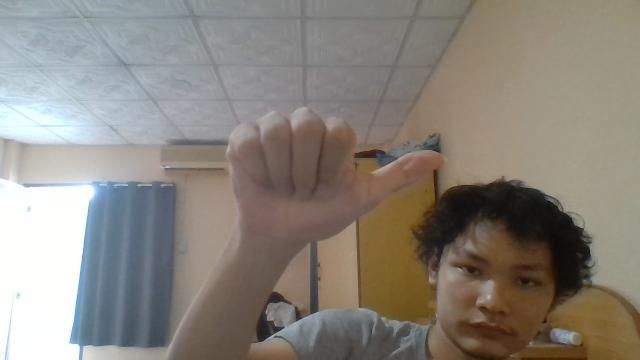left: (225, 105, 445, 246)
